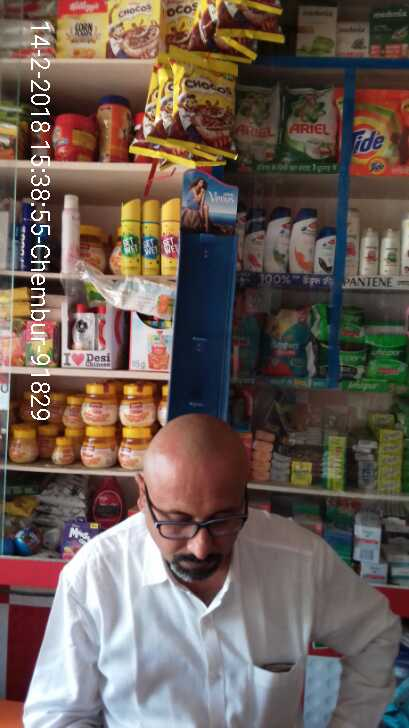beauty: (266, 205, 290, 279), (292, 206, 315, 273), (243, 219, 264, 276), (380, 226, 400, 277), (359, 226, 377, 278), (316, 227, 334, 274), (347, 210, 359, 280)
home: (351, 91, 408, 173), (280, 85, 334, 160), (235, 82, 278, 160)
pharmacy: (259, 310, 309, 381), (369, 332, 408, 380)
